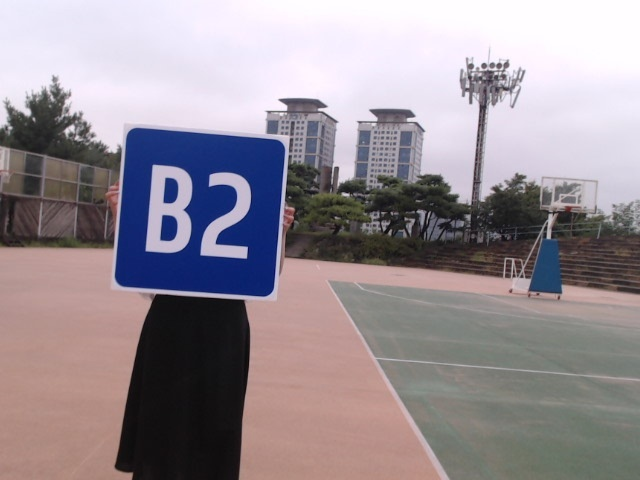delivery_b2: (114, 126, 289, 299)
